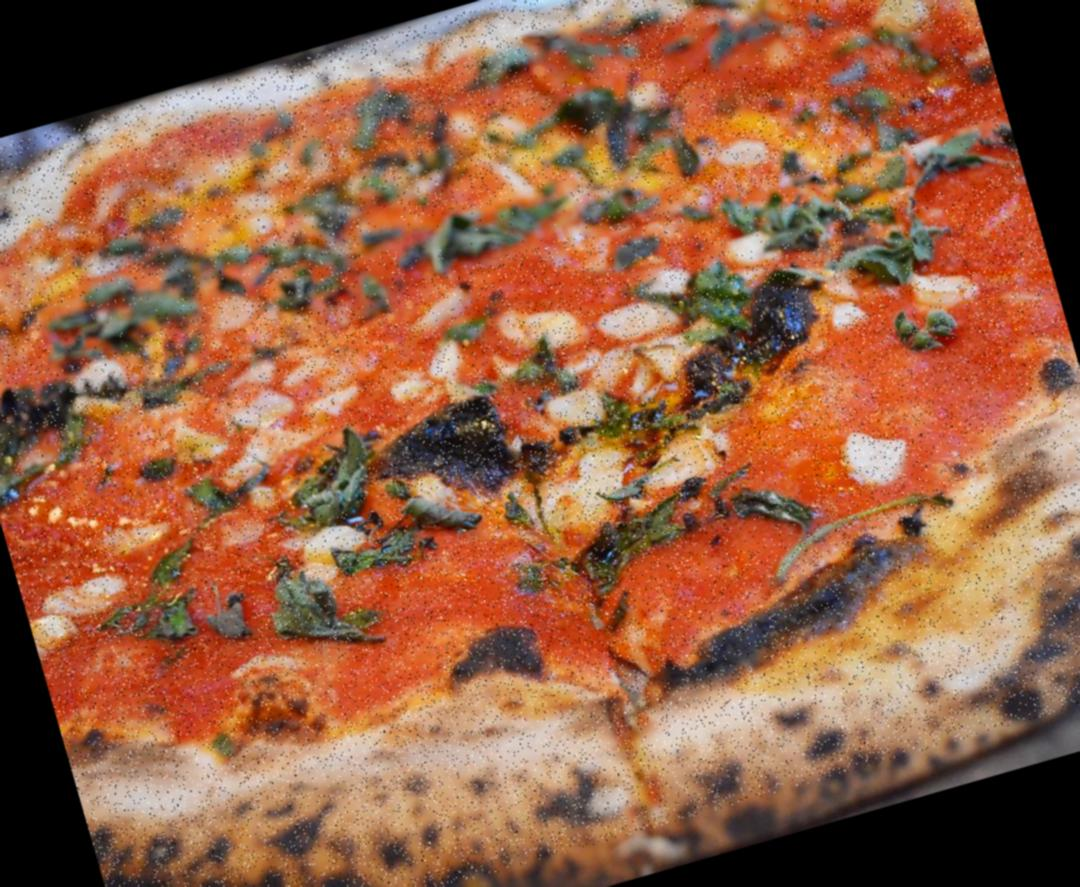Basil: (395, 179, 584, 282), (247, 554, 382, 673), (270, 421, 397, 539), (0, 366, 95, 502), (573, 364, 694, 462), (720, 170, 841, 267), (567, 494, 698, 581), (716, 452, 827, 552), (841, 205, 960, 298), (660, 247, 760, 352), (160, 219, 268, 311), (890, 120, 1009, 202), (36, 283, 144, 370), (522, 8, 631, 91), (327, 516, 433, 598), (590, 84, 691, 162), (884, 286, 974, 372), (328, 78, 424, 156), (692, 0, 791, 74), (265, 249, 362, 318), (290, 174, 378, 250), (572, 171, 672, 236), (255, 215, 346, 286), (453, 31, 552, 96), (822, 6, 919, 70), (403, 480, 487, 550), (478, 98, 570, 160), (832, 144, 916, 209), (691, 356, 771, 424), (434, 289, 513, 357), (396, 131, 473, 199), (329, 153, 411, 216), (174, 460, 246, 531), (128, 532, 209, 595), (127, 272, 207, 335), (552, 72, 636, 131), (600, 220, 672, 284), (137, 584, 206, 650), (110, 222, 186, 279), (201, 589, 260, 648), (892, 30, 951, 86), (127, 444, 192, 493), (241, 109, 299, 162), (352, 266, 403, 326), (654, 124, 710, 178), (352, 202, 408, 256), (85, 266, 146, 311), (619, 269, 674, 318), (134, 198, 198, 239), (670, 186, 724, 234), (543, 133, 601, 174), (607, 0, 670, 37), (226, 454, 280, 497), (828, 86, 892, 122), (768, 136, 818, 182), (868, 114, 924, 154), (818, 56, 876, 92), (660, 28, 704, 70), (680, 0, 745, 28), (290, 135, 322, 168)
Pizza: (0, 0, 1080, 887)
